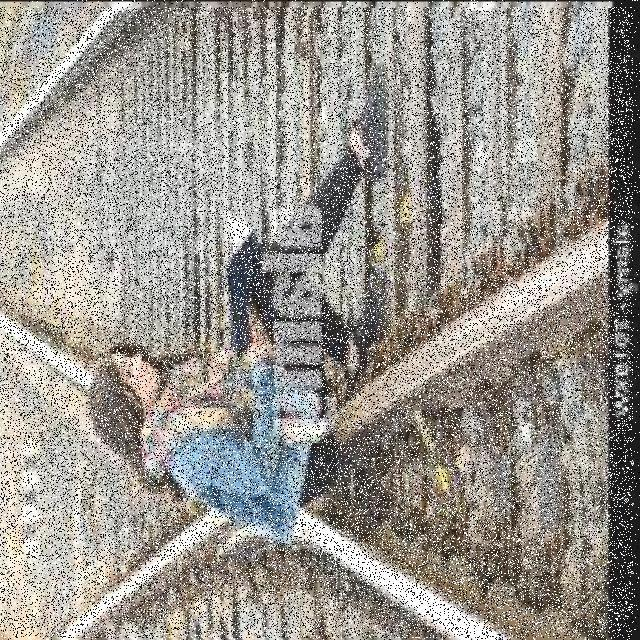danger: (88, 57, 396, 572)
rail: (1, 7, 633, 638)
